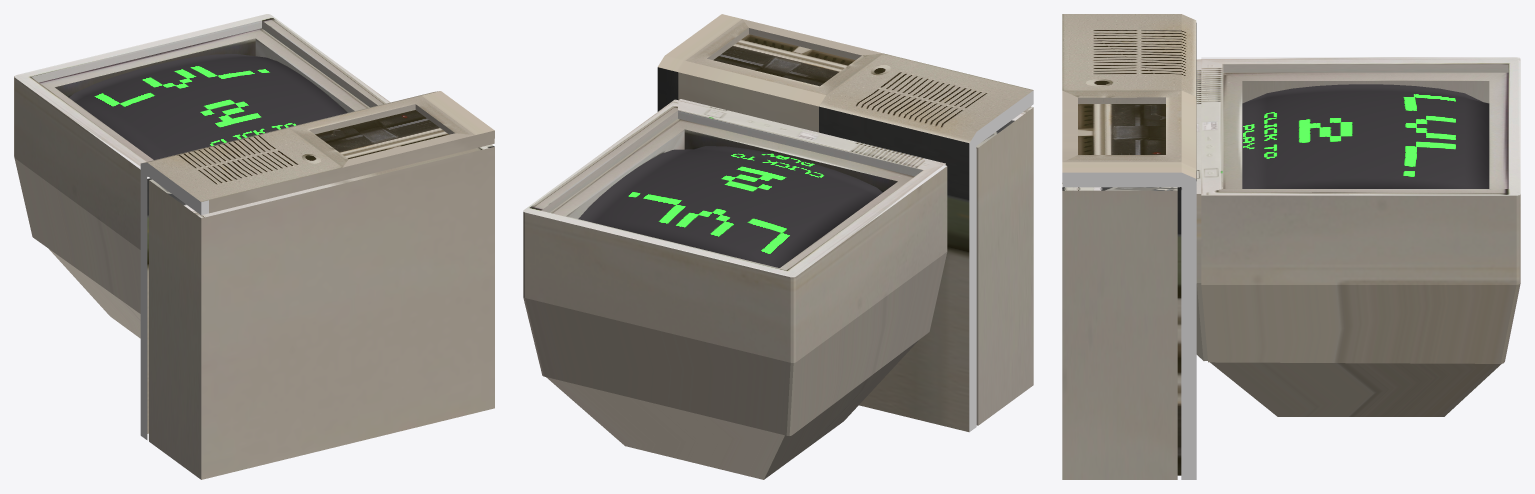
The model's file is lvl2.glb.
3 renders of one model, left to right at view 1: azimuth 30°, elevation 25°; view 2: azimuth 150°, elevation 25°; view 3: azimuth 270°, elevation 25°, orthographic. The views are drawn at different scales.
Visible parts, largest first — view 1: level-2 pc; view 2: level-2 pc; view 3: level-2 pc.
Boxes of the visible parts, bbox=[...] form: level-2 pc: bbox=[14, 14, 494, 479]; level-2 pc: bbox=[523, 14, 1033, 479]; level-2 pc: bbox=[1062, 14, 1520, 479].
Bounding box in the file's own units: 1.15 × 1.04 × 1.41.
2 materials, 2 textured.
